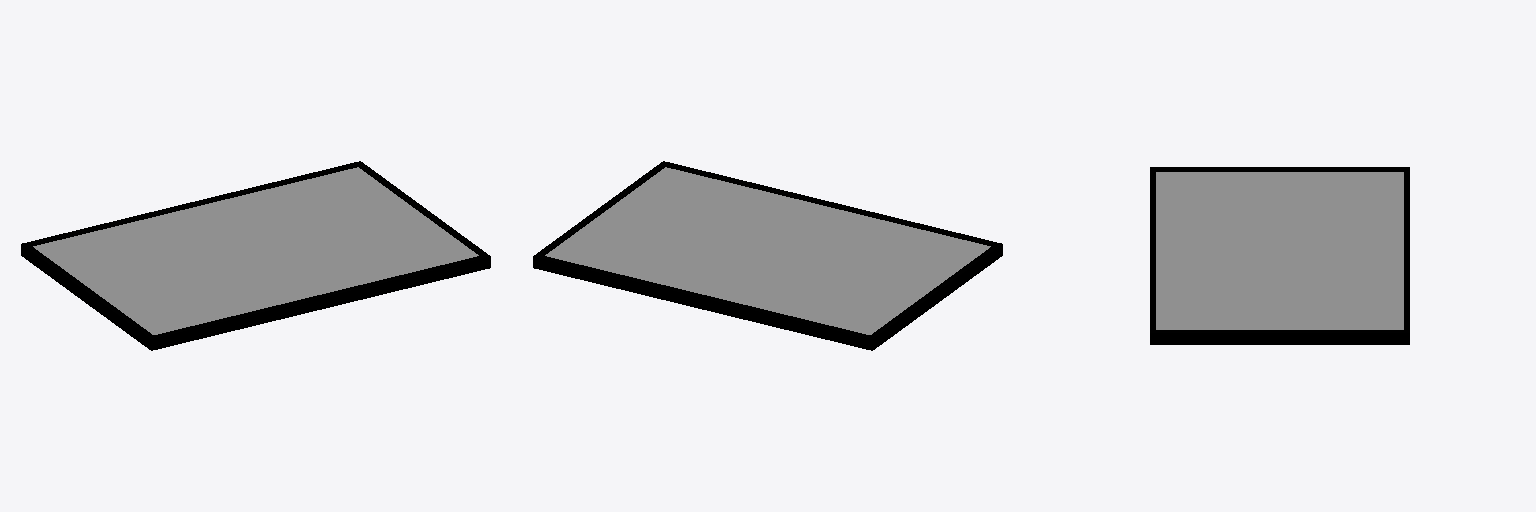
The model's file is picture-1.obj.
The picture shows the model from 3 angles: view 1: azimuth 30°, elevation 25°; view 2: azimuth 150°, elevation 25°; view 3: azimuth 270°, elevation 25°; orthographic projection.
Parts seen in each view (by area): view 1: Cube.004; view 2: Cube.004; view 3: Cube.004.
Boxes of the visible parts, x1=… form: Cube.004: x1=21, y1=161, x2=490, y2=350; Cube.004: x1=533, y1=161, x2=1002, y2=350; Cube.004: x1=1150, y1=167, x2=1409, y2=344.
Size of the model in its own units: 6.02 by 0.2 by 4.